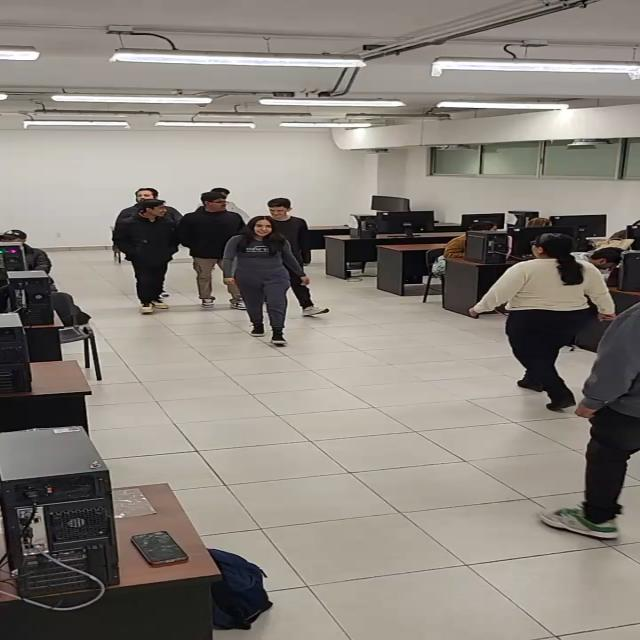Persona: (482, 225, 614, 414), (217, 215, 310, 352), (108, 195, 180, 315), (184, 186, 238, 314)
